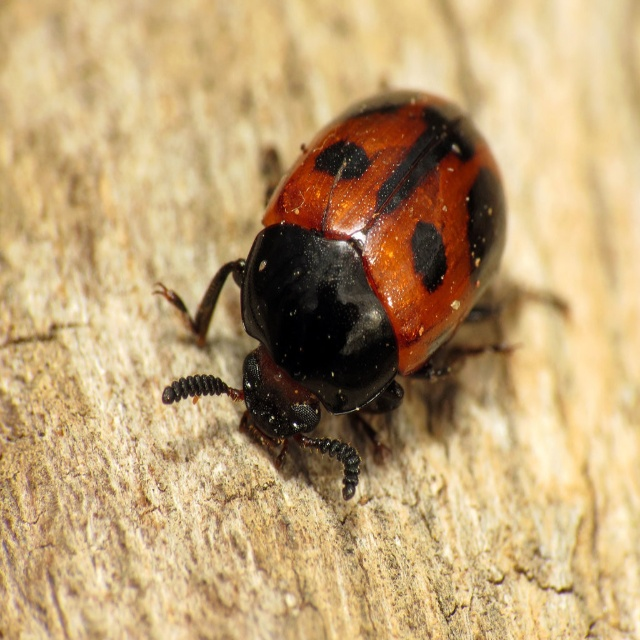Ladybug: (149, 82, 566, 502)
